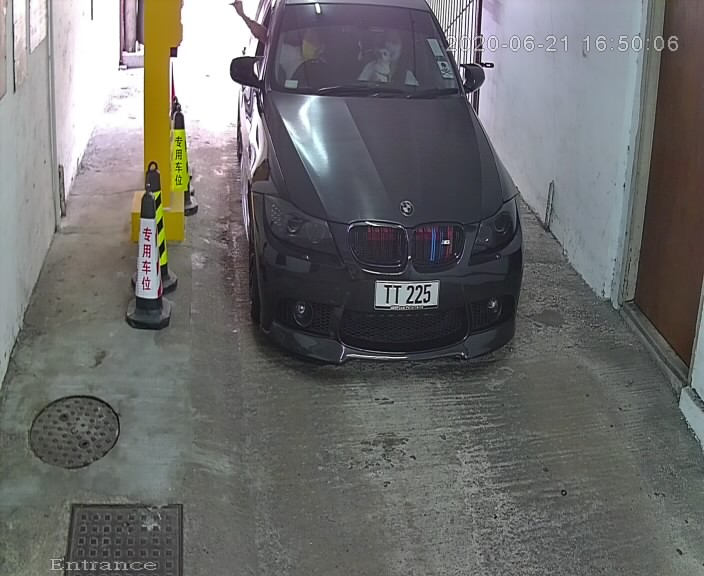privatecar: (221, 2, 542, 387)
